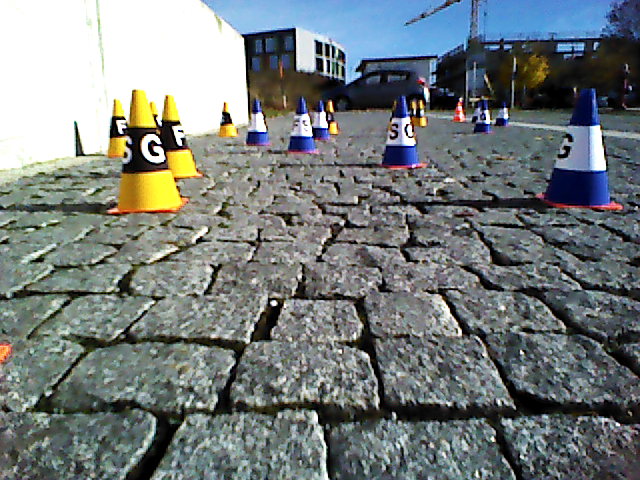bluecone: (547, 89, 611, 205), (383, 97, 418, 166), (289, 98, 316, 152), (247, 101, 268, 145), (312, 100, 327, 139)
yellowcone: (120, 91, 178, 208), (168, 95, 195, 176), (108, 99, 128, 157), (219, 103, 236, 135)
